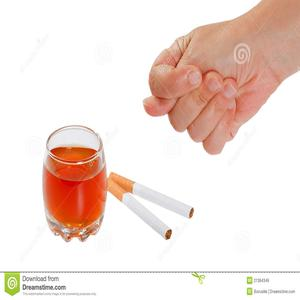cigarette: (109, 171, 201, 219), (106, 180, 174, 242)
